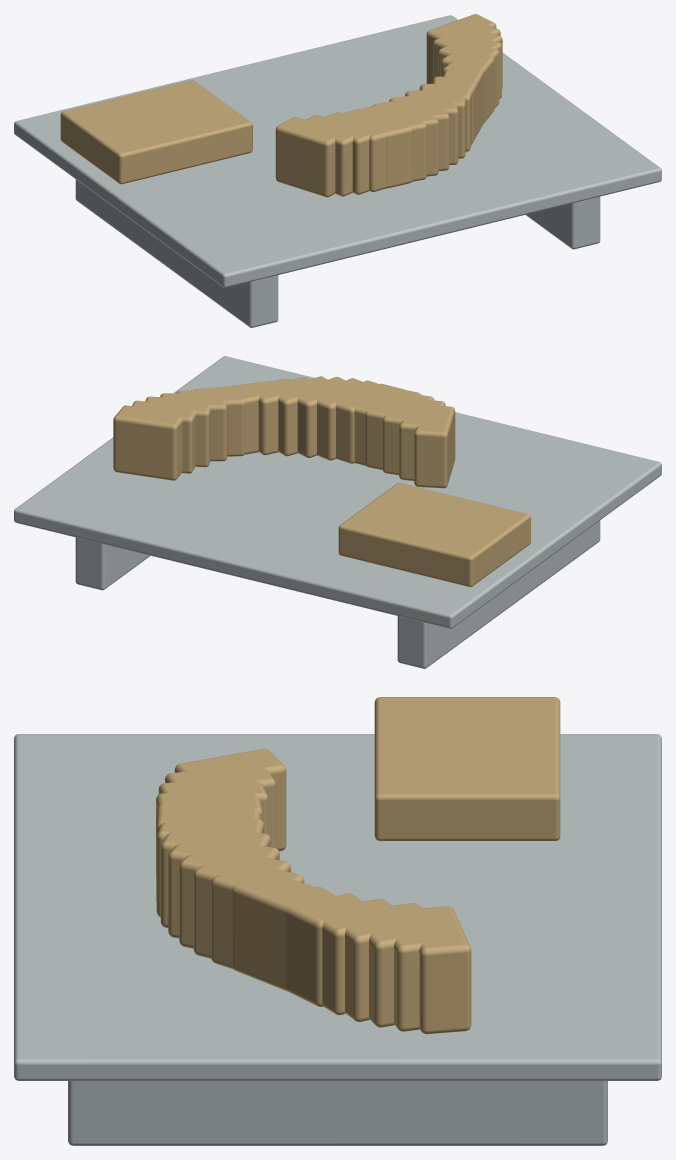
File: abandoned-tidal-model-testing-hall-curved-harbour-mode-870e5f2a__32333.glb
The picture shows the model from 3 angles, top to bottom: view 1: azimuth 30°, elevation 25°; view 2: azimuth 150°, elevation 25°; view 3: azimuth 270°, elevation 25°; orthographic projection. The views are drawn at different scales.
Parts seen in each view (by area): view 1: curved-harbour-model-insert; view 2: curved-harbour-model-insert; view 3: curved-harbour-model-insert.
Part boxes in pixels (<box>): curved-harbour-model-insert: <box>14,14,661,327</box>; curved-harbour-model-insert: <box>14,356,661,668</box>; curved-harbour-model-insert: <box>14,697,661,1145</box>.
Size of the model in its own units: 1.8 by 0.525 by 1.5.
